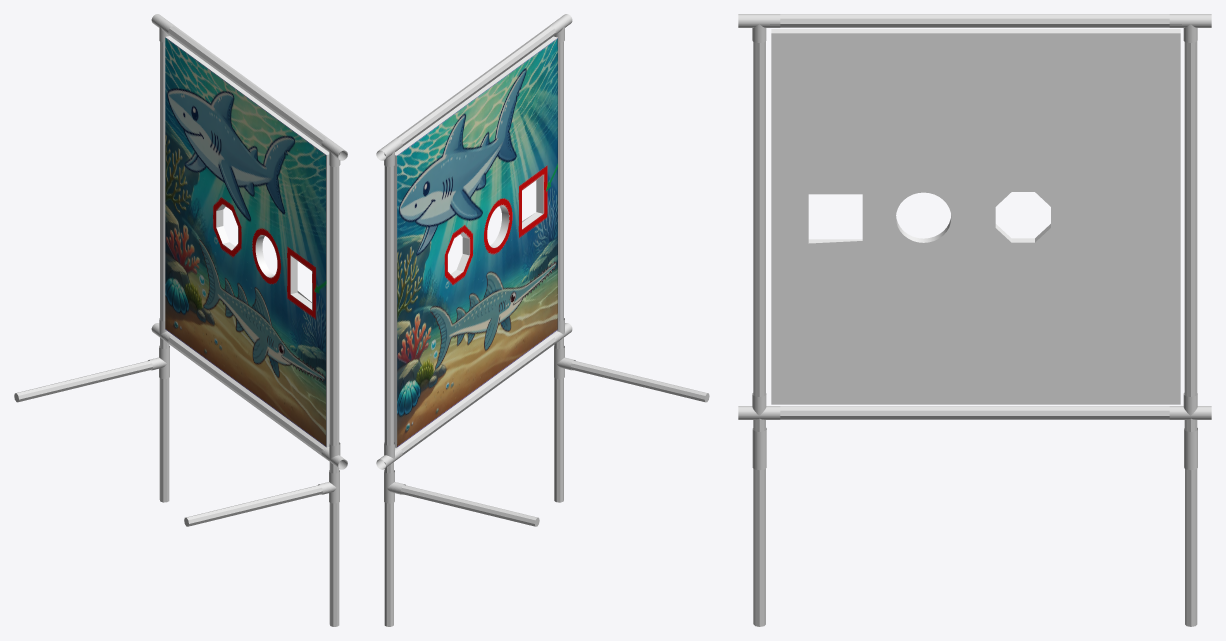
The model's file is torpedoMapping_2025.dae.
The picture shows the model from 3 angles, left to right: view 1: azimuth 30°, elevation 25°; view 2: azimuth 150°, elevation 25°; view 3: azimuth 270°, elevation 25°; orthographic projection. The views are drawn at different scales.
Visible parts, largest first — view 1: Cube, Tee Joint.005, Tee Joint.002, Tee Joint.003, Tee Joint.001, Tee Joint.004; view 2: Cube, Tee Joint.005, Tee Joint.002, Tee Joint.001, Tee Joint.004, Tee Joint.003; view 3: Cube, Tee Joint.002, Tee Joint.001, Tee Joint.004, Tee Joint.003, Tee Joint.005.
Part boxes in pixels (bbox=[...]): Cube: bbox=[165, 36, 329, 447]; Tee Joint.005: bbox=[14, 360, 339, 626]; Tee Joint.002: bbox=[148, 318, 347, 503]; Tee Joint.003: bbox=[329, 154, 339, 473]; Tee Joint.001: bbox=[151, 14, 347, 166]; Tee Joint.004: bbox=[160, 41, 169, 348]; Cube: bbox=[394, 36, 557, 447]; Tee Joint.005: bbox=[384, 360, 709, 626]; Tee Joint.002: bbox=[376, 318, 575, 503]; Tee Joint.001: bbox=[376, 14, 572, 166]; Tee Joint.004: bbox=[384, 153, 393, 473]; Tee Joint.003: bbox=[554, 42, 563, 348]; Cube: bbox=[771, 29, 1180, 404]; Tee Joint.002: bbox=[738, 392, 1211, 470]; Tee Joint.001: bbox=[738, 14, 1211, 42]; Tee Joint.004: bbox=[1184, 41, 1197, 431]; Tee Joint.003: bbox=[753, 41, 765, 431]; Tee Joint.005: bbox=[753, 469, 1197, 626].
Bounding box in the file's own units: 0.3401 × 0.719 × 1.02.
Materials: 1 (1 with a texture image).
